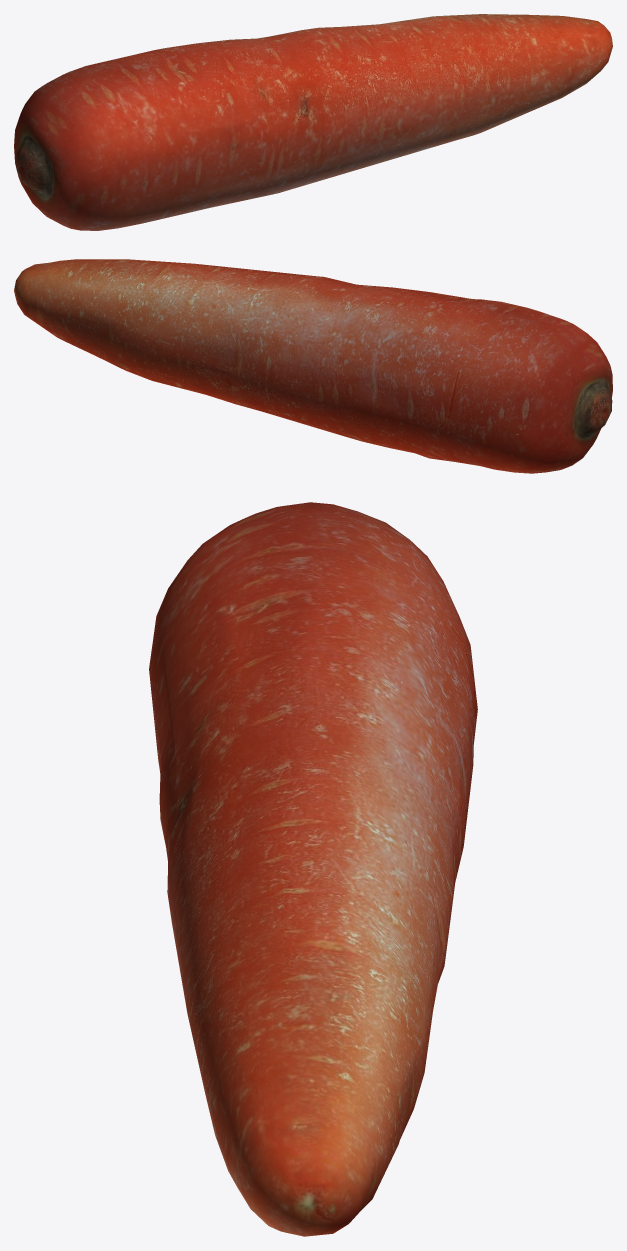
The model's file is carrot.gltf.
3 renders of one model, top to bottom at view 1: azimuth 30°, elevation 25°; view 2: azimuth 150°, elevation 25°; view 3: azimuth 270°, elevation 25°, orthographic. The views are drawn at different scales.
Visible parts, largest first — view 1: carrot2; view 2: carrot2; view 3: carrot2.
Part boxes in pixels (bbox=[...]): carrot2: bbox=[14, 14, 612, 230]; carrot2: bbox=[14, 259, 612, 473]; carrot2: bbox=[149, 502, 477, 1236].
Size of the model in its own units: 142 by 35.98 by 34.32.
1 material, 1 textured.
